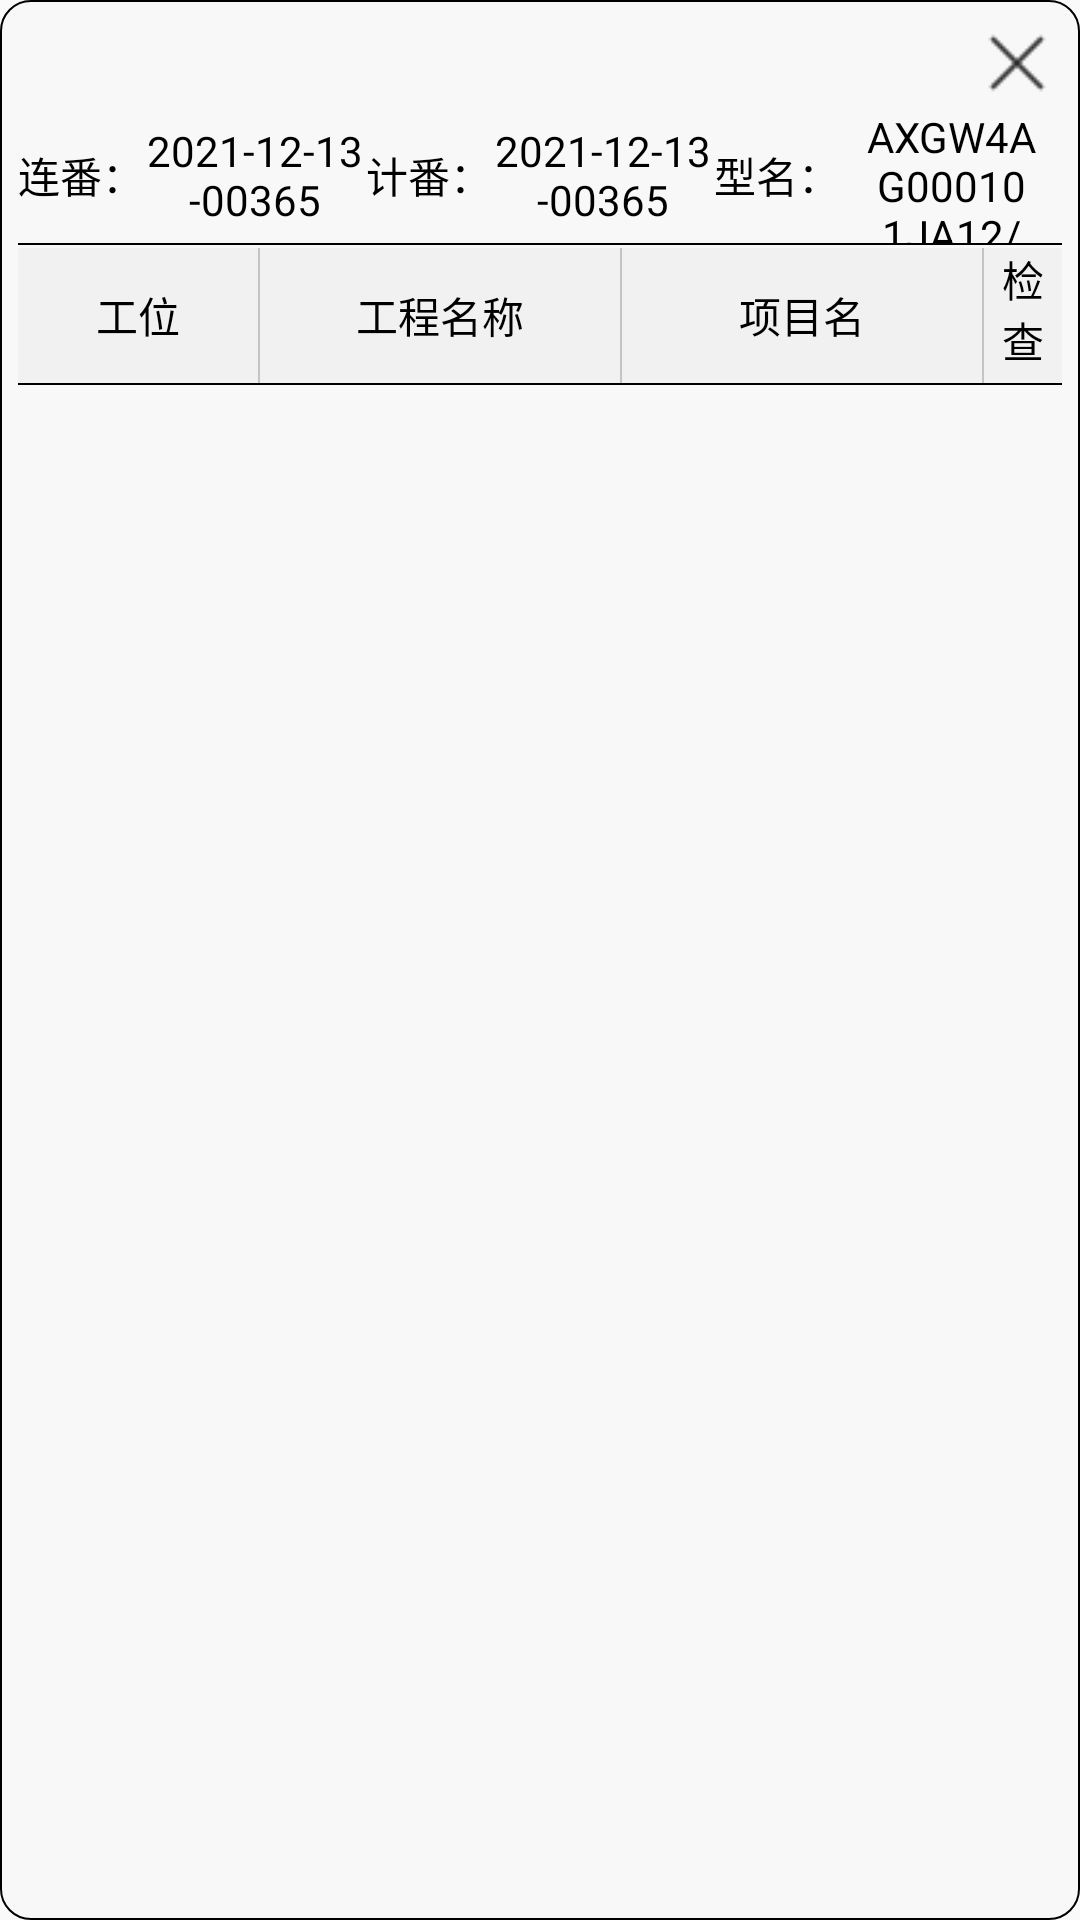

Locate icon controls on the screen. Image size 1080 x 1920, boxes as bbox=(x1, y1, x2, y2).
close change: bbox=(989, 35, 1045, 91)
